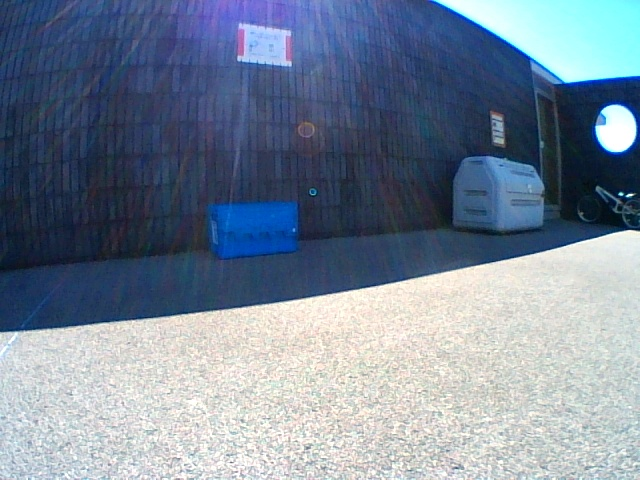blue_box: (209, 201, 298, 260)
tag: (211, 222, 218, 243)
